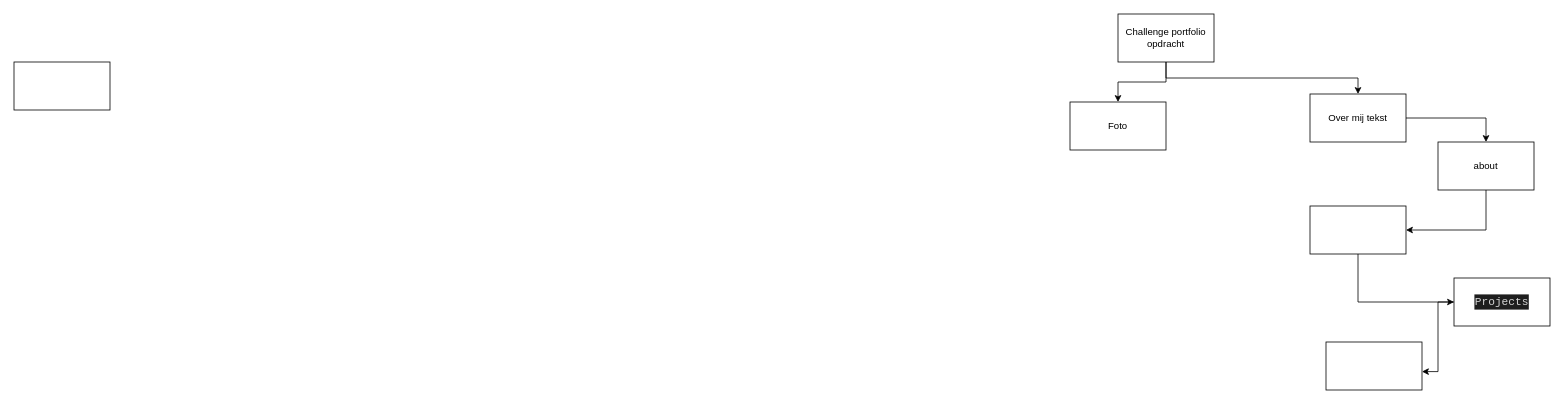
This 1564x410 diagram has some shape labels left out. The box of each missing label's shape, as (x1, y1, x2, y2) in pixels:
Contact: (1325, 341, 1422, 390)
Interests: (1309, 205, 1406, 254)
